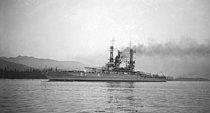MIL_Ship: (42, 45, 167, 81)
